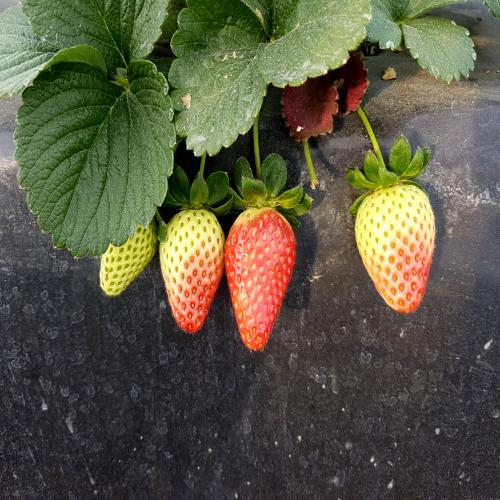partially-ripe: (345, 181, 442, 315), (222, 200, 302, 355), (159, 202, 222, 341)
